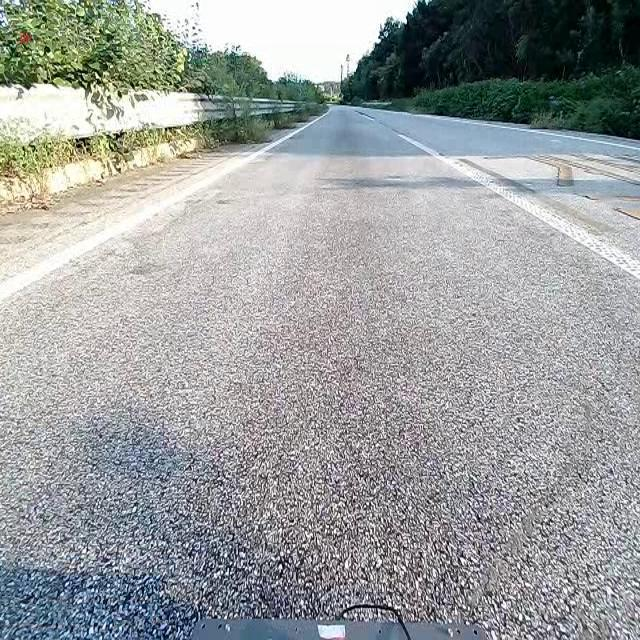Lane: (0, 116, 312, 308), (0, 120, 316, 306), (360, 110, 639, 279), (356, 112, 640, 274)
